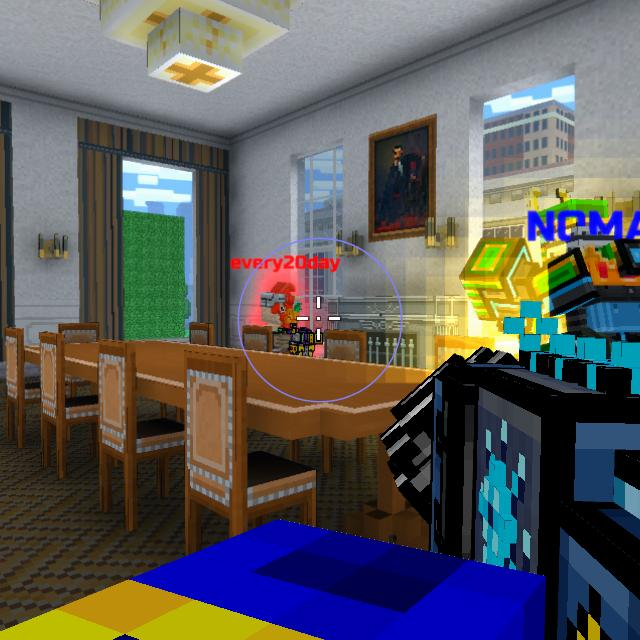Enemy: (242, 292, 302, 354)
